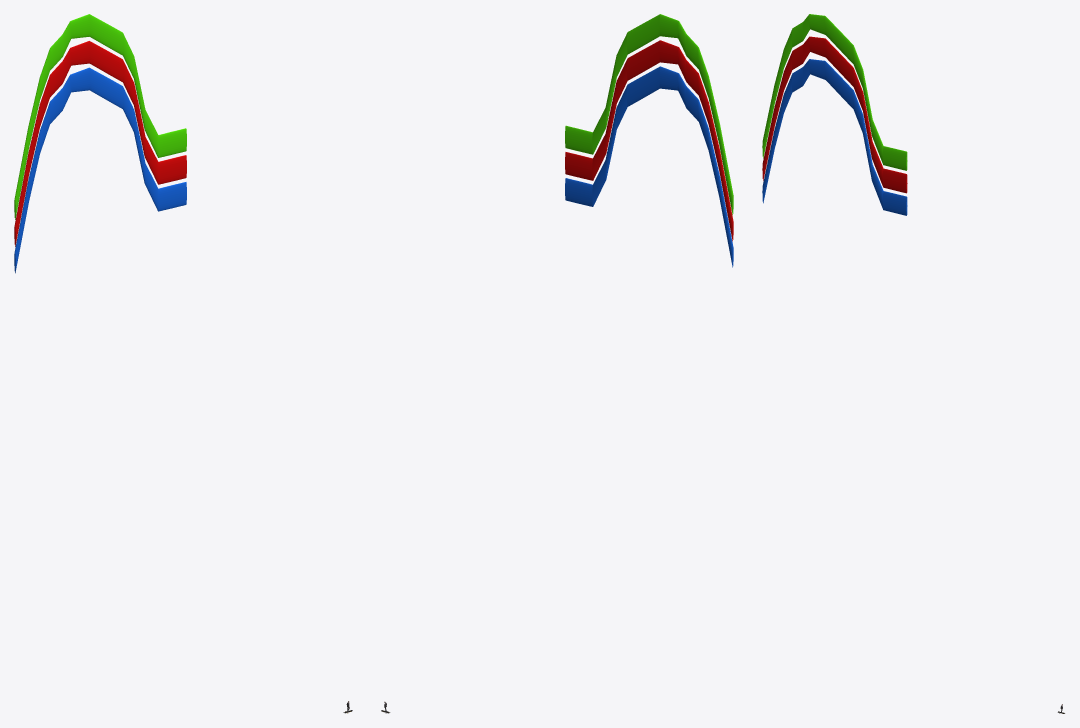
File: man_hover.glb
The picture shows the model from 3 angles, left to right: view 1: azimuth 30°, elevation 25°; view 2: azimuth 150°, elevation 25°; view 3: azimuth 330°, elevation 25°; orthographic projection. The views are drawn at different scales.
Visible parts, largest first — view 1: Cube.013_11, Cube.013_12, Cube.013_10; view 2: Cube.013_10, Cube.013_12, Cube.013_11; view 3: Cube.013_10, Cube.013_12, Cube.013_11.
Boxes of the visible parts, box(x1,y1,x2,y2) form: Cube.013_11: box(14, 41, 186, 246); Cube.013_12: box(14, 67, 186, 273); Cube.013_10: box(14, 14, 186, 219); Cube.013_10: box(565, 14, 733, 215); Cube.013_12: box(565, 66, 733, 267); Cube.013_11: box(565, 40, 733, 241); Cube.013_10: box(762, 14, 907, 170); Cube.013_12: box(762, 59, 907, 215); Cube.013_11: box(762, 36, 907, 193).
Size of what is drawn, in the model's own units: 45.1 by 95.47 by 2.96.
Materials: 17 (1 with a texture image).
